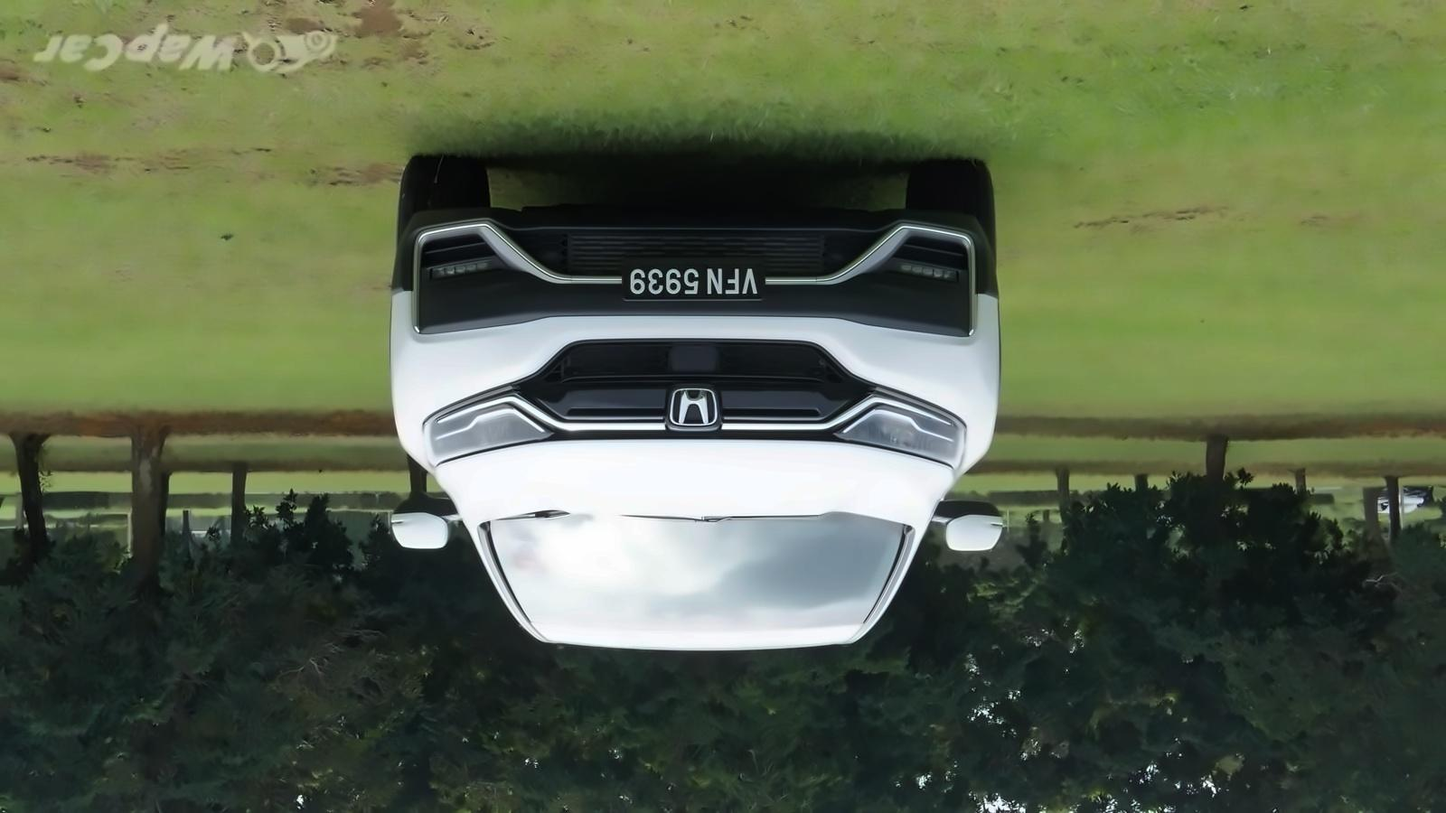Car hood: (430, 436, 957, 529)
Front bumper: (350, 199, 1025, 413)
Headlight - -L-: (426, 381, 560, 472)
Headlight - -R-: (832, 385, 967, 474)
Side mirror - -L-: (382, 509, 466, 552)
Side mirror - -R-: (935, 498, 1005, 560)
